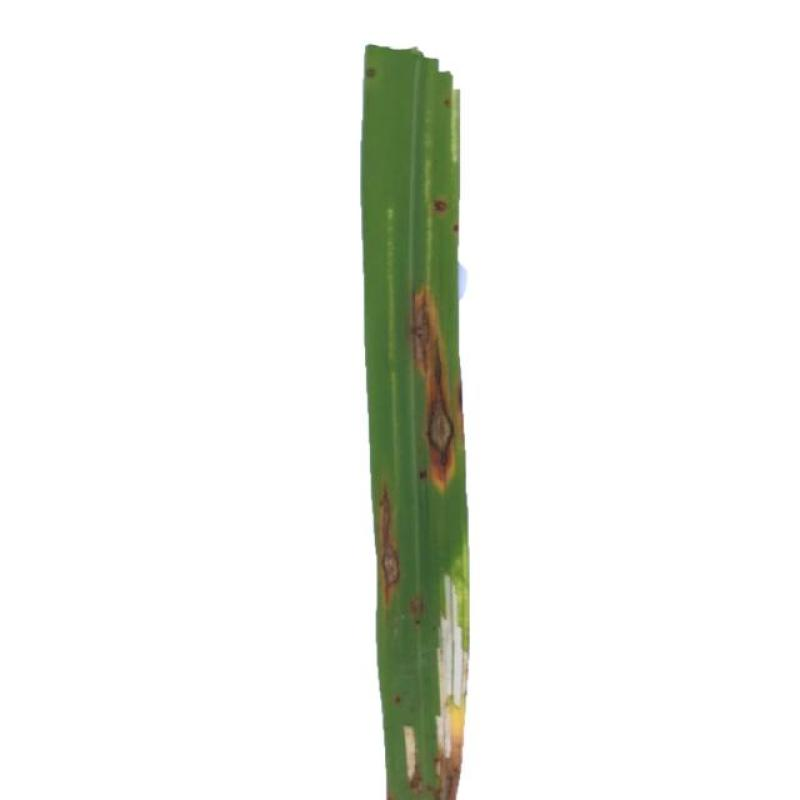Leaf_Blast: (401, 286, 460, 492), (372, 490, 412, 599)
